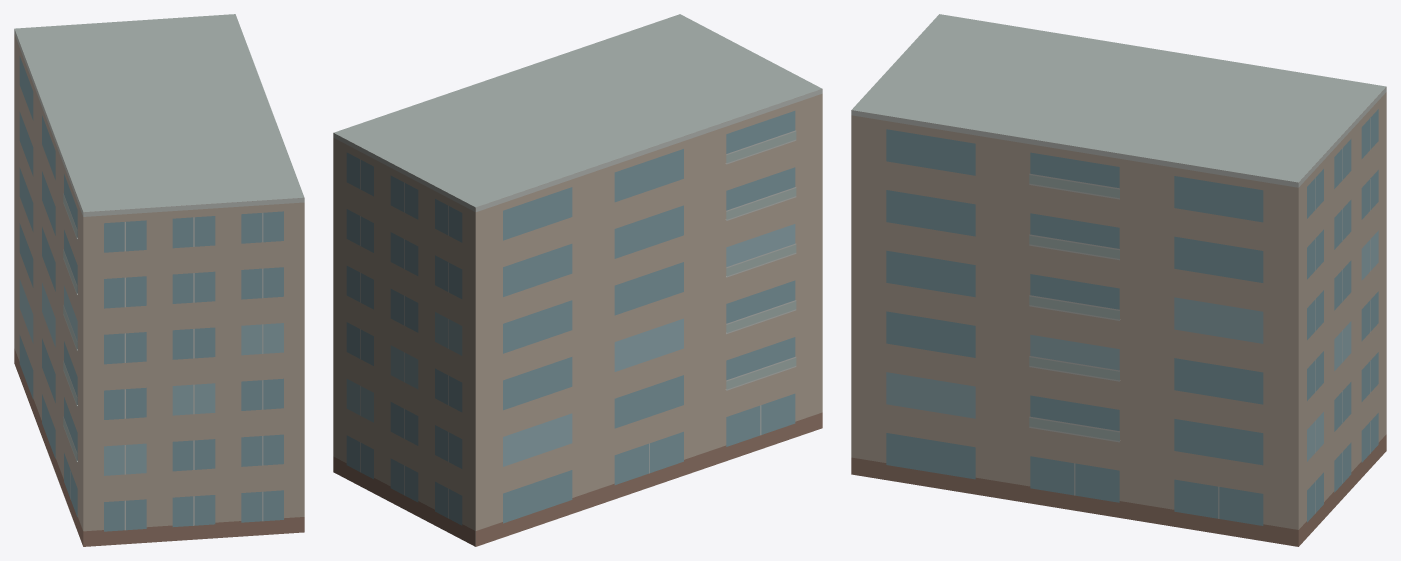
Rendered from survey-upis-32975237.glb.
3 renders of one model, left to right at view 1: azimuth 30°, elevation 25°; view 2: azimuth 150°, elevation 25°; view 3: azimuth 270°, elevation 25°, orthographic. The views are drawn at different scales.
Visible parts, largest first — view 1: survey-upis-32975237.tmp; view 2: survey-upis-32975237.tmp; view 3: survey-upis-32975237.tmp.
Boxes of the visible parts, x1,y1,x2,y2 form: survey-upis-32975237.tmp: (14,14,304,546); survey-upis-32975237.tmp: (333,14,822,546); survey-upis-32975237.tmp: (851,14,1386,546).
Bounding box in the file's own units: 16.87 × 17 × 22.64.
